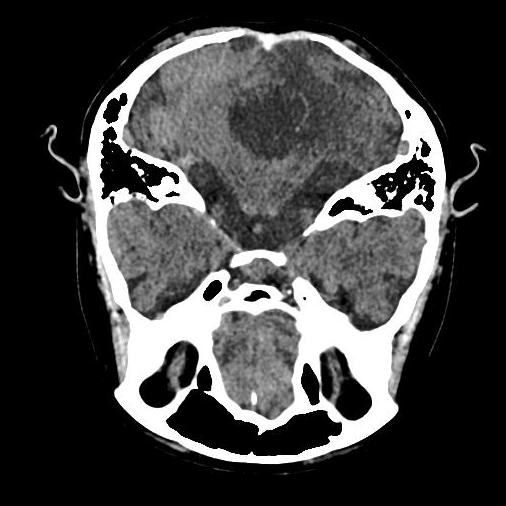Cancer: (227, 80, 318, 165)
